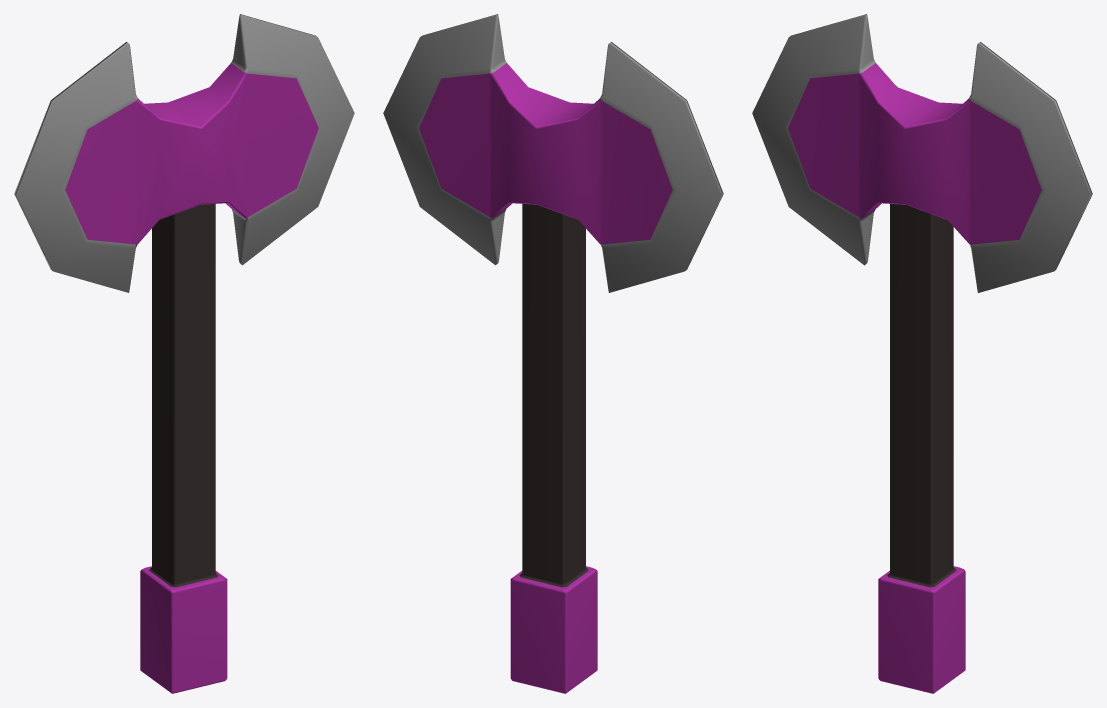
The model's file is axe_5.FBX.
The picture shows the model from 3 angles, left to right: view 1: azimuth 30°, elevation 25°; view 2: azimuth 150°, elevation 25°; view 3: azimuth 330°, elevation 25°; orthographic projection.
Parts seen in each view (by area): view 1: axe_5; view 2: axe_5; view 3: axe_5.
Part boxes in pixels (<box>): axe_5: <box>14,14,354,693</box>; axe_5: <box>383,14,723,693</box>; axe_5: <box>752,14,1092,693</box>.
Bounding box in the file's own units: 1.54 × 2.82 × 0.2774.
